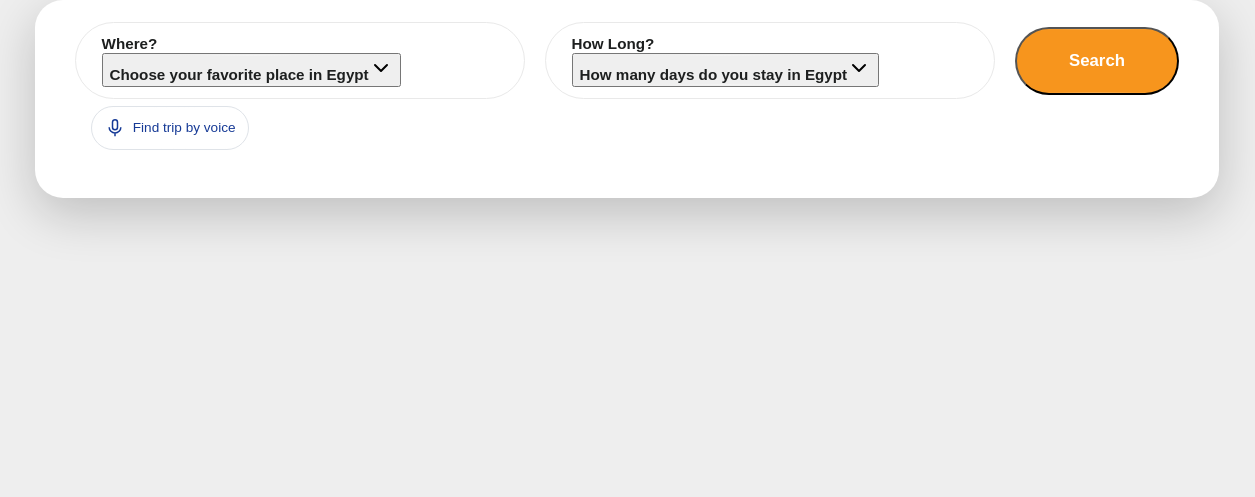
Test: Smart Voice integrates with the existing Find Trip › 3 nights preserves nights as secondary information
The image size is (1255, 497).
Step 1. Click the button "Find trip by voice" → x=170, y=128, box left=91, top=106, right=249, bottom=150
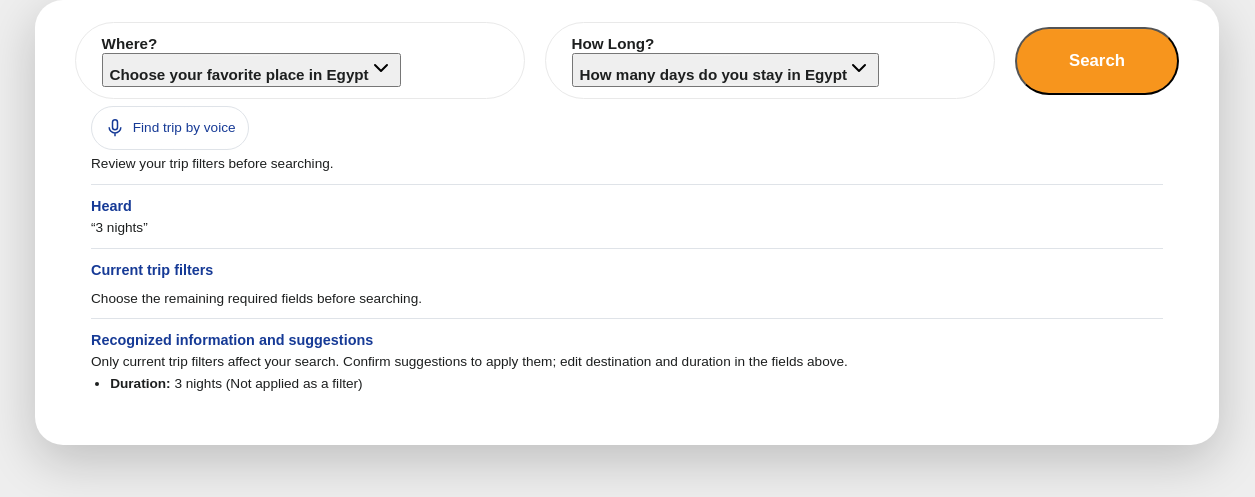
Check: the element "Heard" is shown, box left=91, top=184, right=1163, bottom=235
Check: the text "Review your trip filters before searching." is shown, box left=91, top=156, right=334, bottom=171
Check: the element "Recognized information and suggestions" shows "3 nights", box left=174, top=376, right=222, bottom=391
